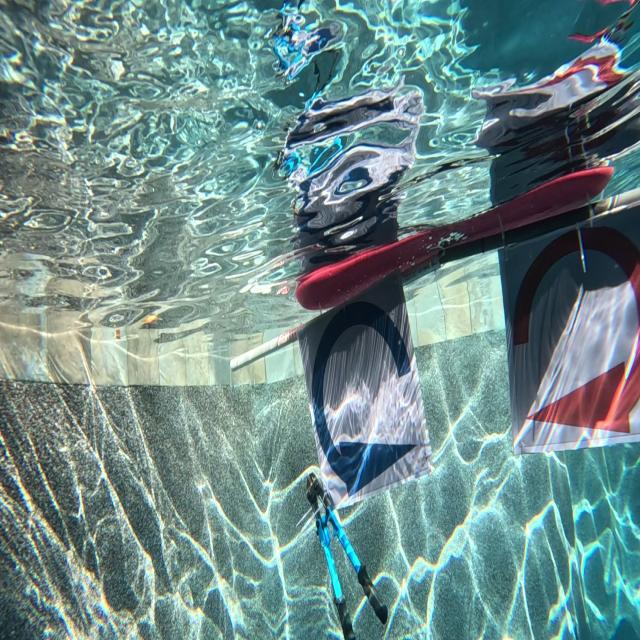blue_side: (308, 300, 418, 500)
red_side: (512, 223, 640, 426)
